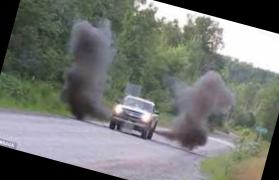Smoke: (40, 10, 139, 131), (148, 60, 242, 162)
